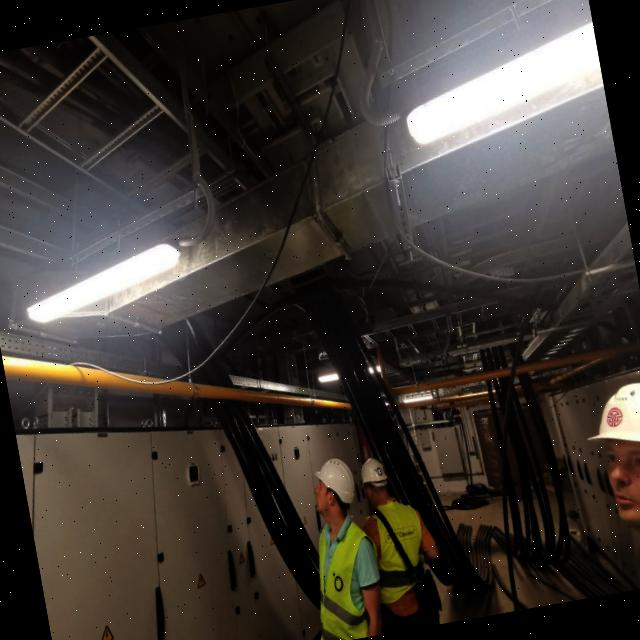Helmet: (578, 380, 640, 494), (309, 456, 359, 511), (357, 457, 392, 498)
Jacket: (313, 505, 385, 640), (364, 489, 432, 610)
